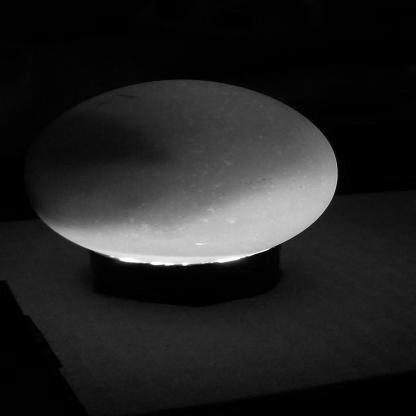telur: (21, 69, 341, 266)
